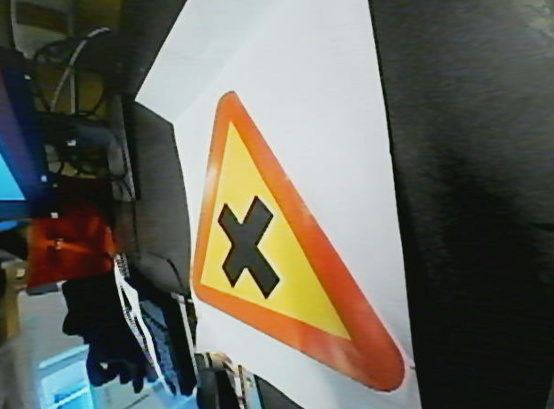junction: (173, 83, 407, 395)
